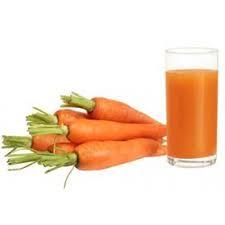Organic: (3, 24, 225, 194)
